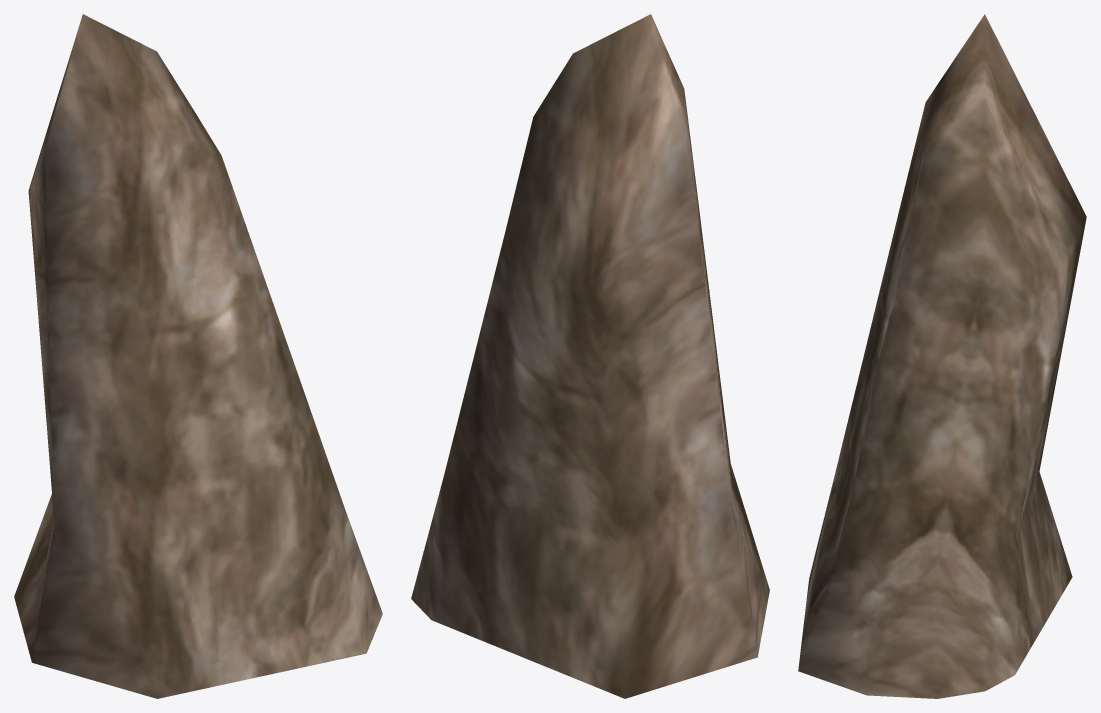
The model's file is OVERHILL_A_01_ROCK1.fbx.
3 views of the same model, side by side, from view 1: azimuth 30°, elevation 25°; view 2: azimuth 150°, elevation 25°; view 3: azimuth 270°, elevation 25° (orthographic). The views are drawn at different scales.
Parts seen in each view (by area): view 1: OVERHILL_A_01_ROCK1; view 2: OVERHILL_A_01_ROCK1; view 3: OVERHILL_A_01_ROCK1.
Boxes of the visible parts, x1,y1,x2,y2 form: OVERHILL_A_01_ROCK1: (14, 14, 382, 698); OVERHILL_A_01_ROCK1: (411, 14, 769, 698); OVERHILL_A_01_ROCK1: (798, 14, 1086, 698).
Bounding box in the file's own units: 16651 × 30325 × 13839.
1 material, 1 textured.
